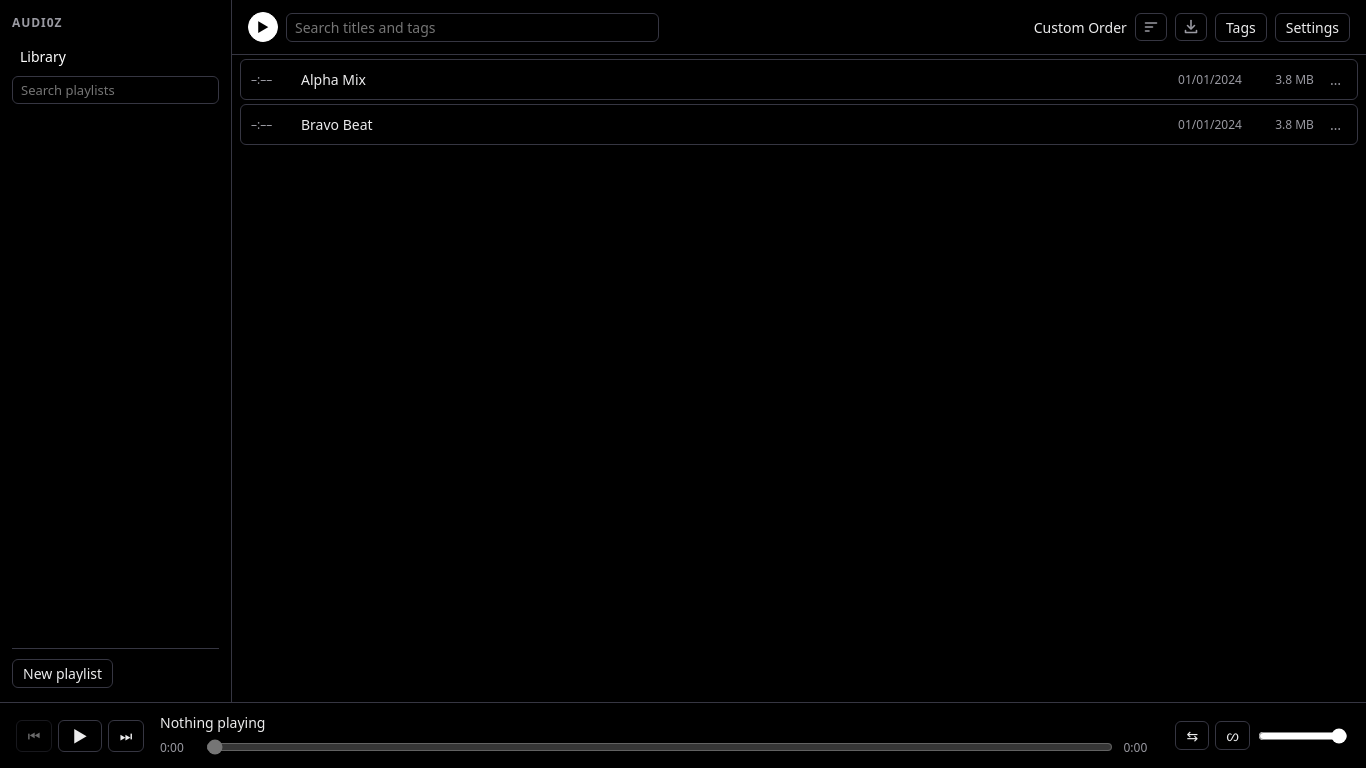
App keyboard shortcuts › plays and pauses the cued song with the space bar
Click the button "Alpha Mix". click: (334, 80)
box: [301, 68, 1158, 91]
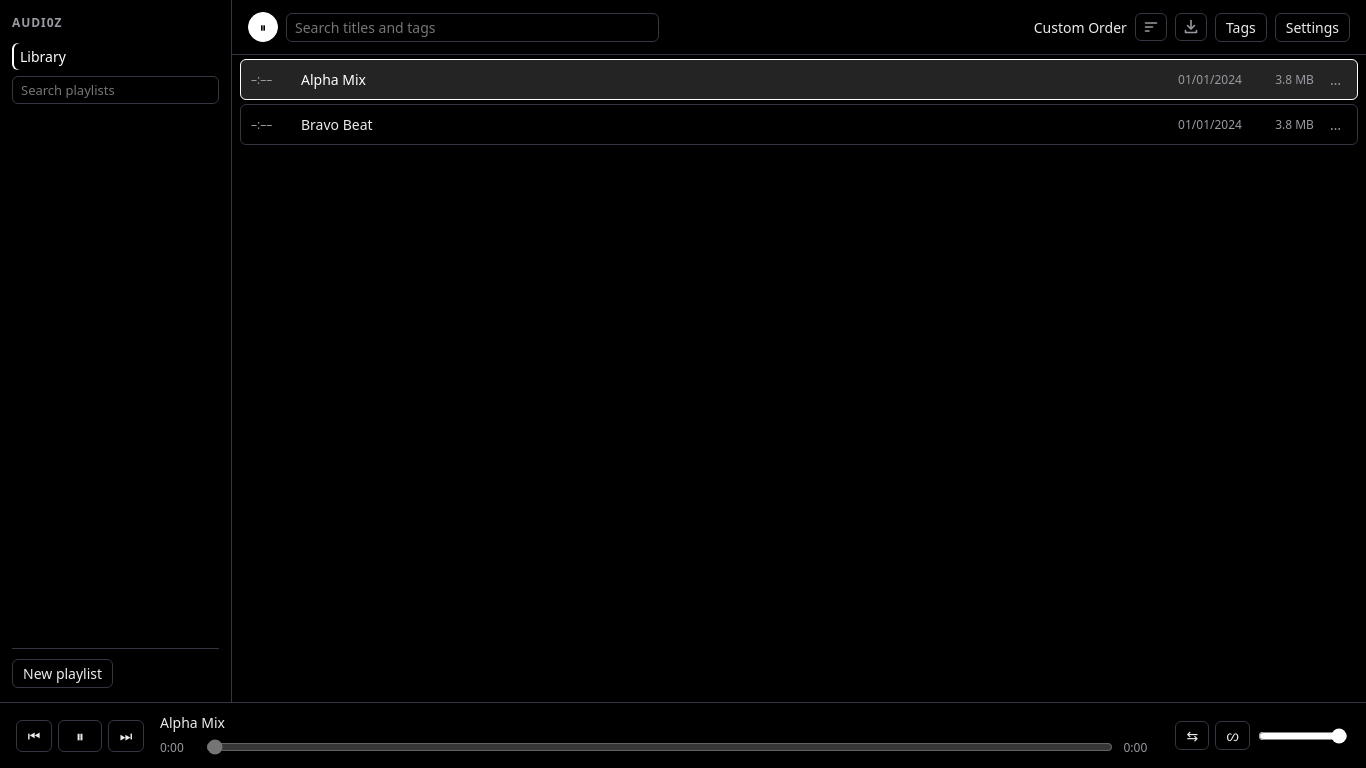
expect the button named "Pause" is shown: met, box [58, 720, 102, 752]
Press Space
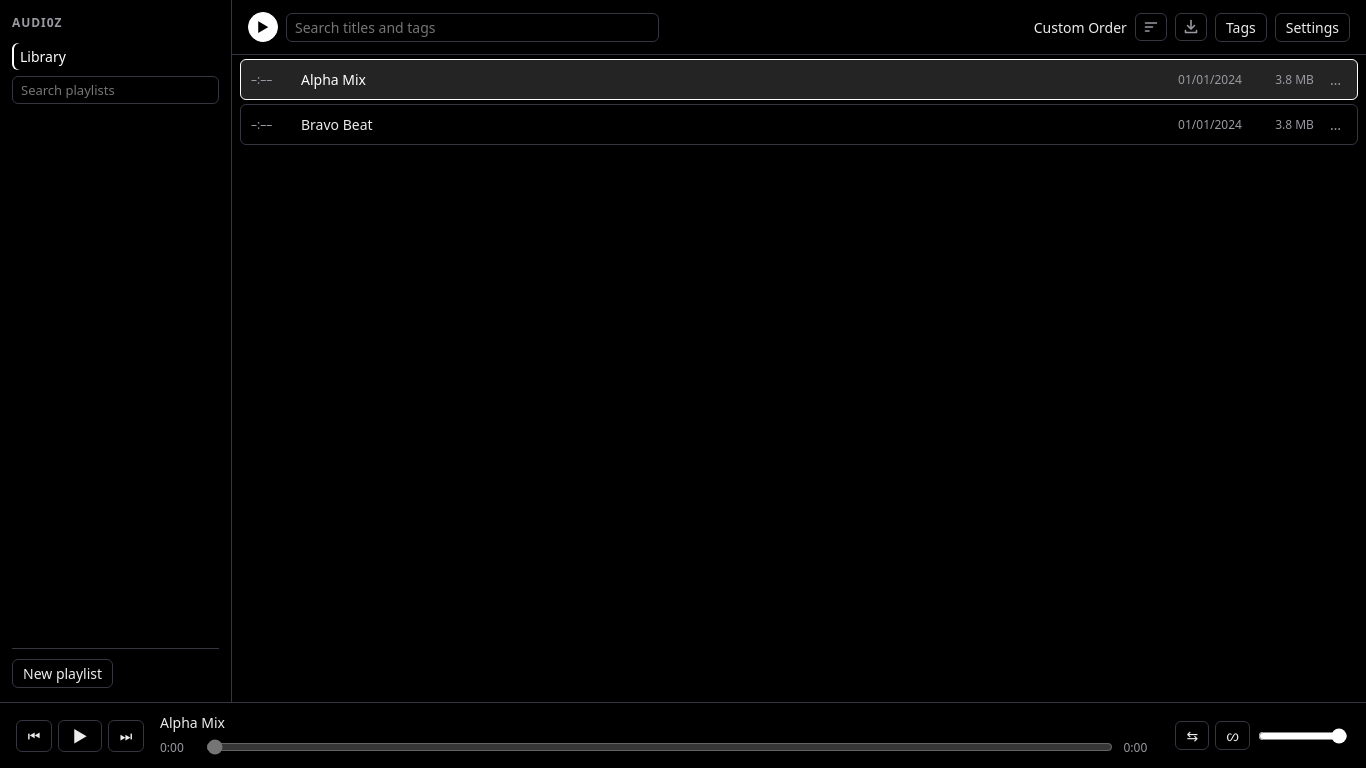
expect the button named "Play" is shown: met, box [58, 720, 102, 752]
Press Space
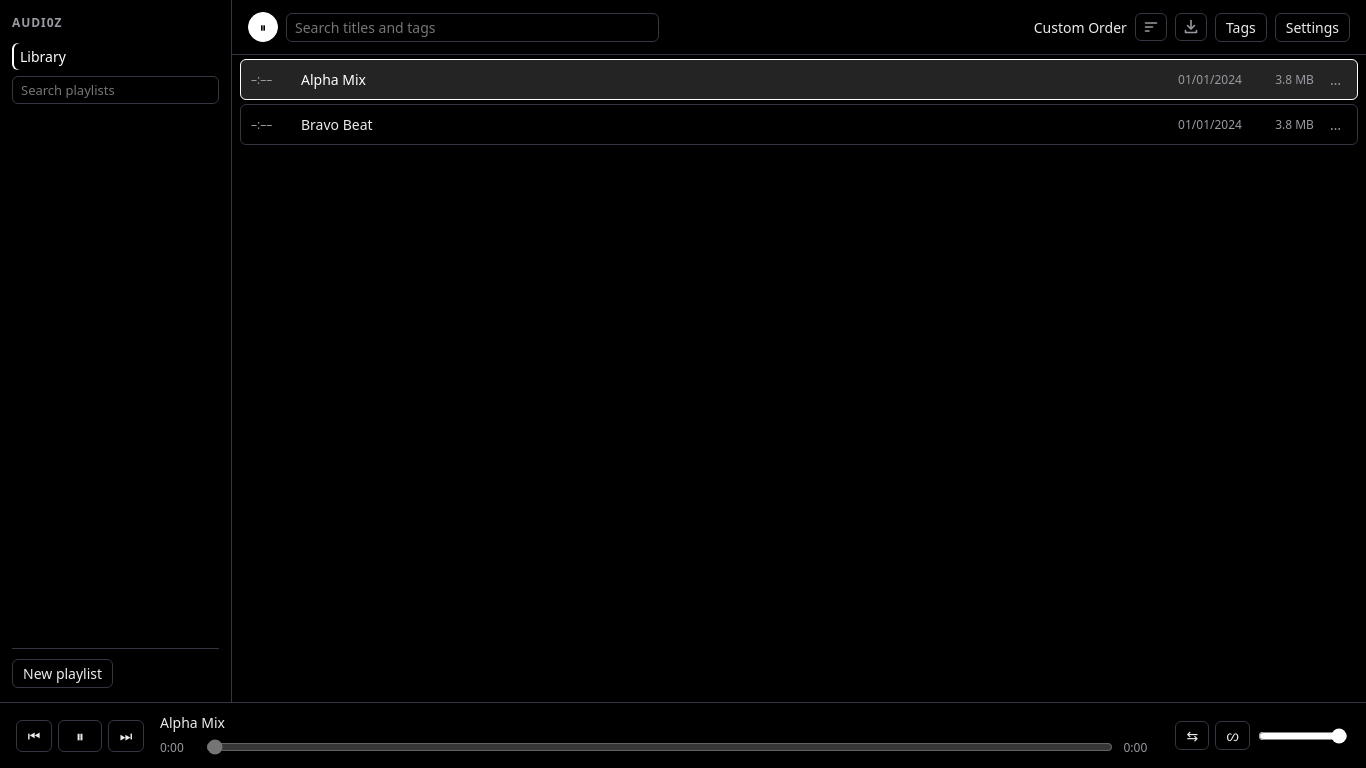
expect the button "Alpha Mix" is shown: met, box [301, 68, 1158, 91]
expect the button named "Pause" is shown: met, box [58, 720, 102, 752]
